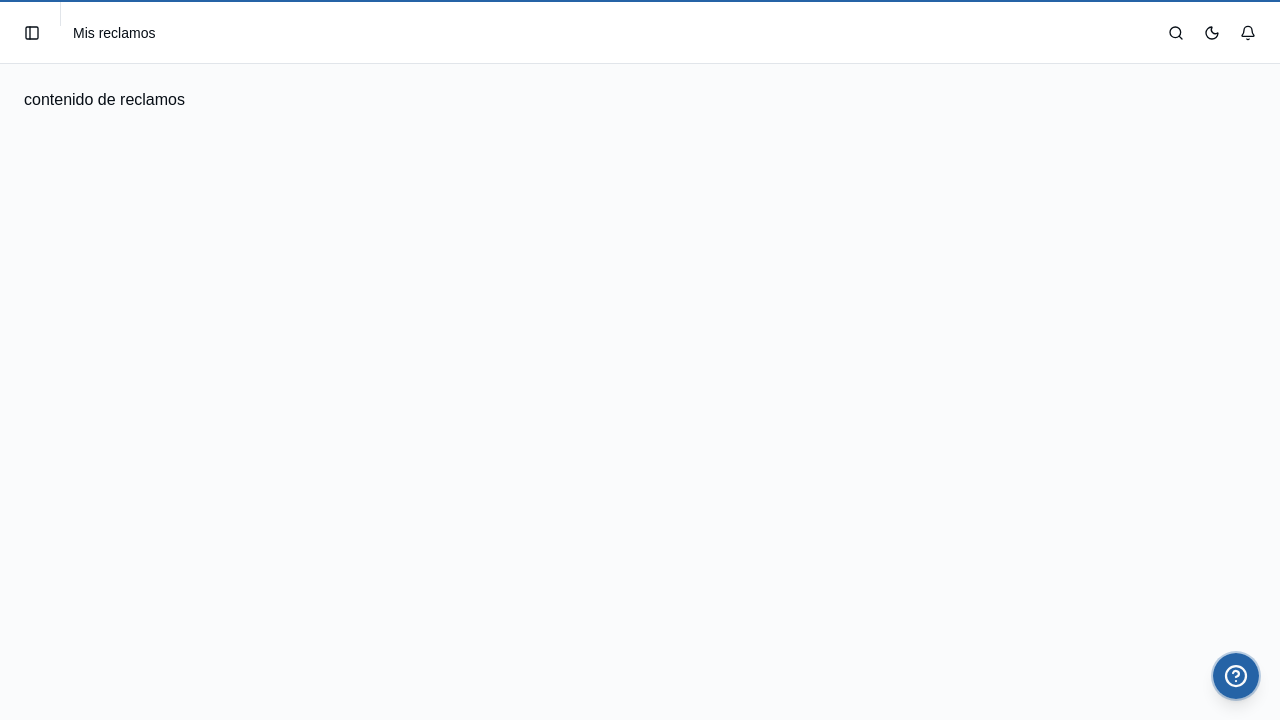
Test: AppLayout › busca reclamos y navega al elegir un resultado
Click the button named "buscar reclamos": (1176, 32) x1=1160 y1=16 x2=1192 y2=48
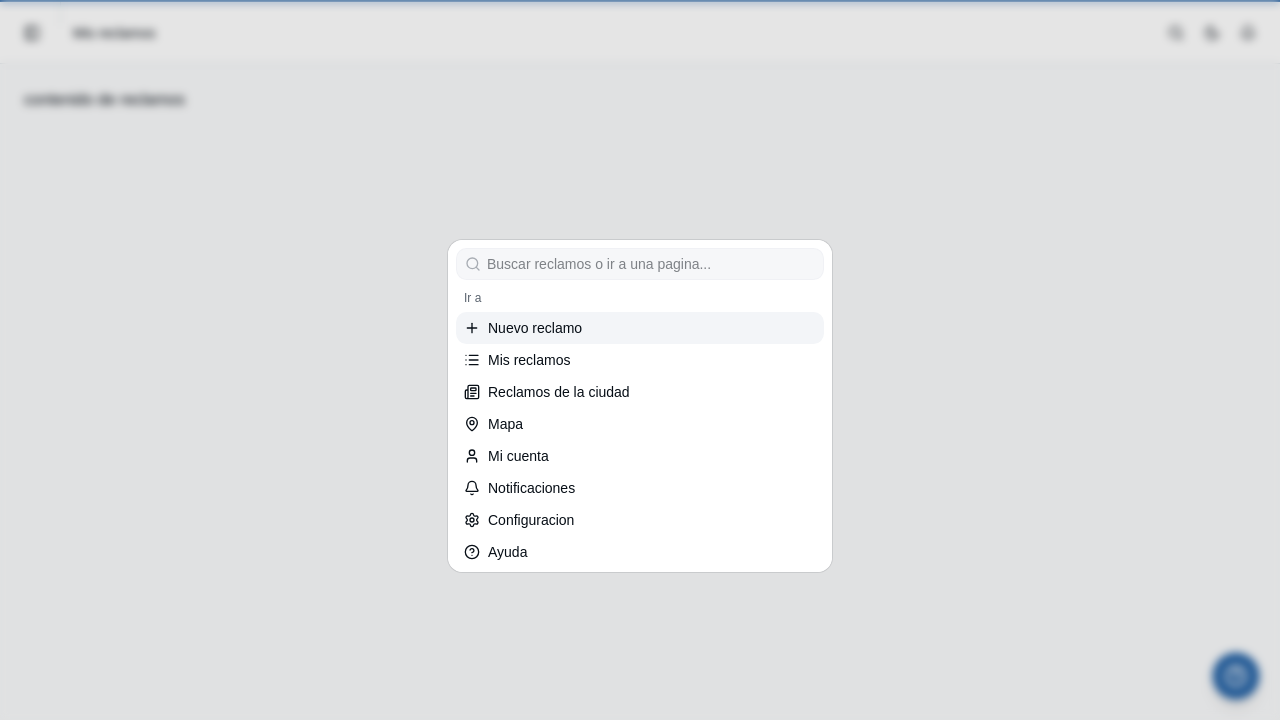
In the dropdown with placeholder "Buscar reclamos o ir a una pagina...": (652, 264) x1=481 y1=254 x2=823 y2=274, type "bache"
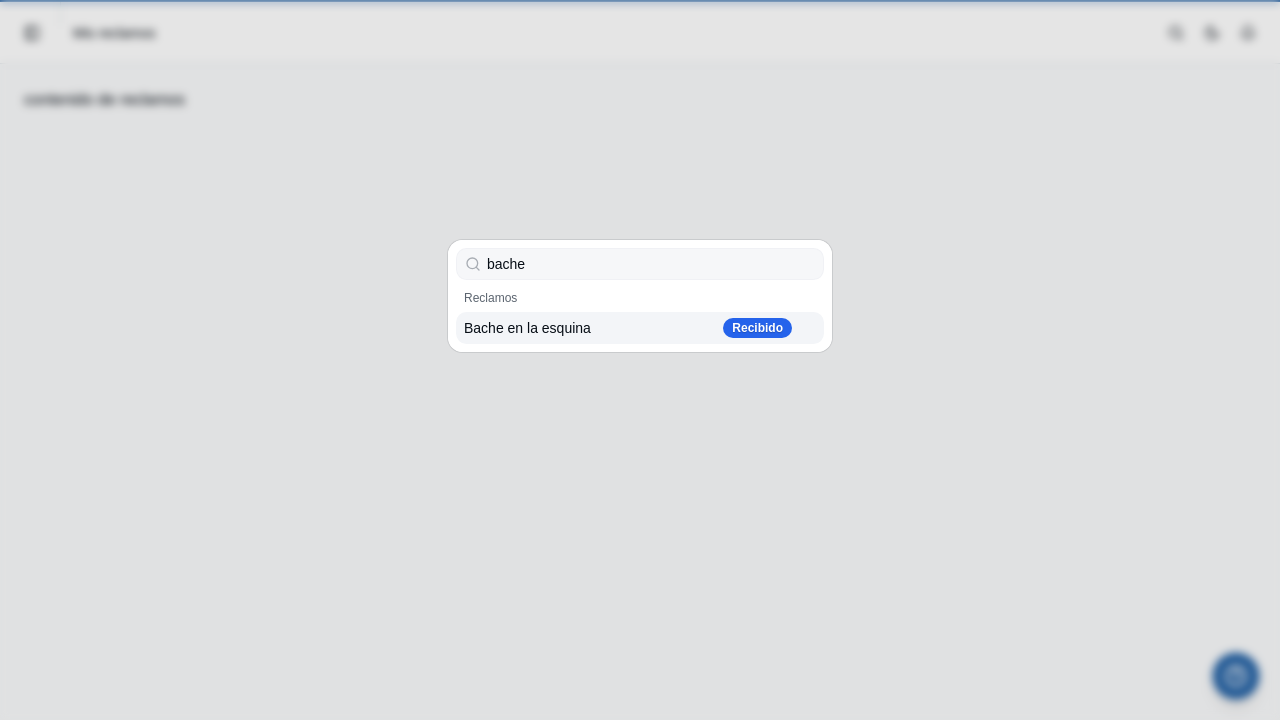
Click the option "Bache en la esquina Recibido": (527, 328) x1=456 y1=312 x2=824 y2=344
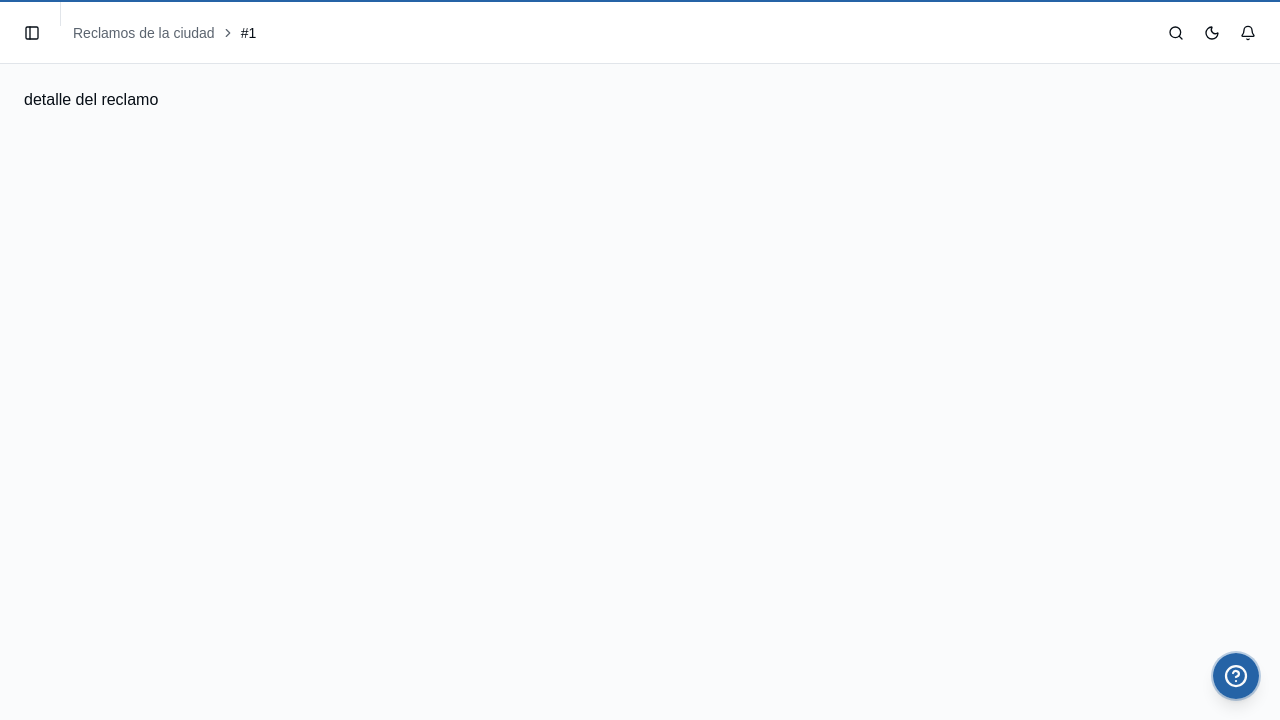
Now the text "detalle del reclamo" is shown, box x1=24 y1=91 x2=158 y2=108
